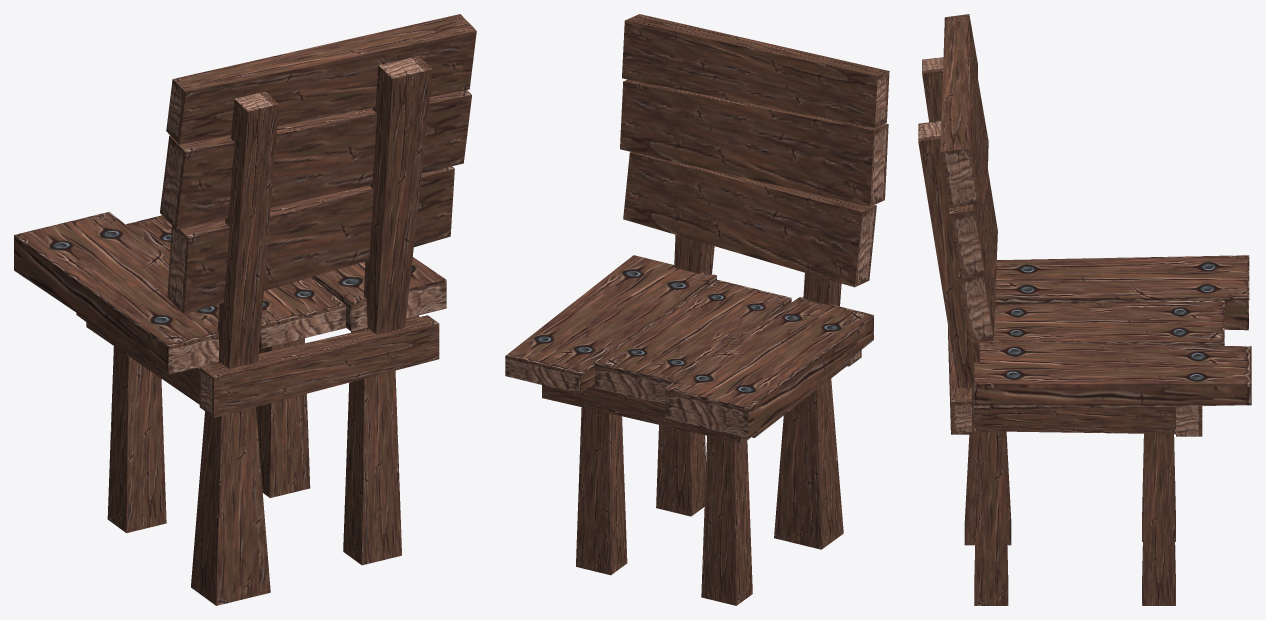
Rendered from Furniture_SquareChair_Tavern_DR.fbx.
3 views of the same model, side by side, from view 1: azimuth 30°, elevation 25°; view 2: azimuth 150°, elevation 25°; view 3: azimuth 270°, elevation 25° (orthographic). The views are drawn at different scales.
Parts seen in each view (by area): view 1: polySurface856; view 2: polySurface856; view 3: polySurface856.
Part boxes in pixels (x1,y1,x2,y2): polySurface856: (14,14,476,605); polySurface856: (505,14,889,605); polySurface856: (918,14,1251,605).
Size of the model in its own units: 59.05 by 103 by 63.56.
